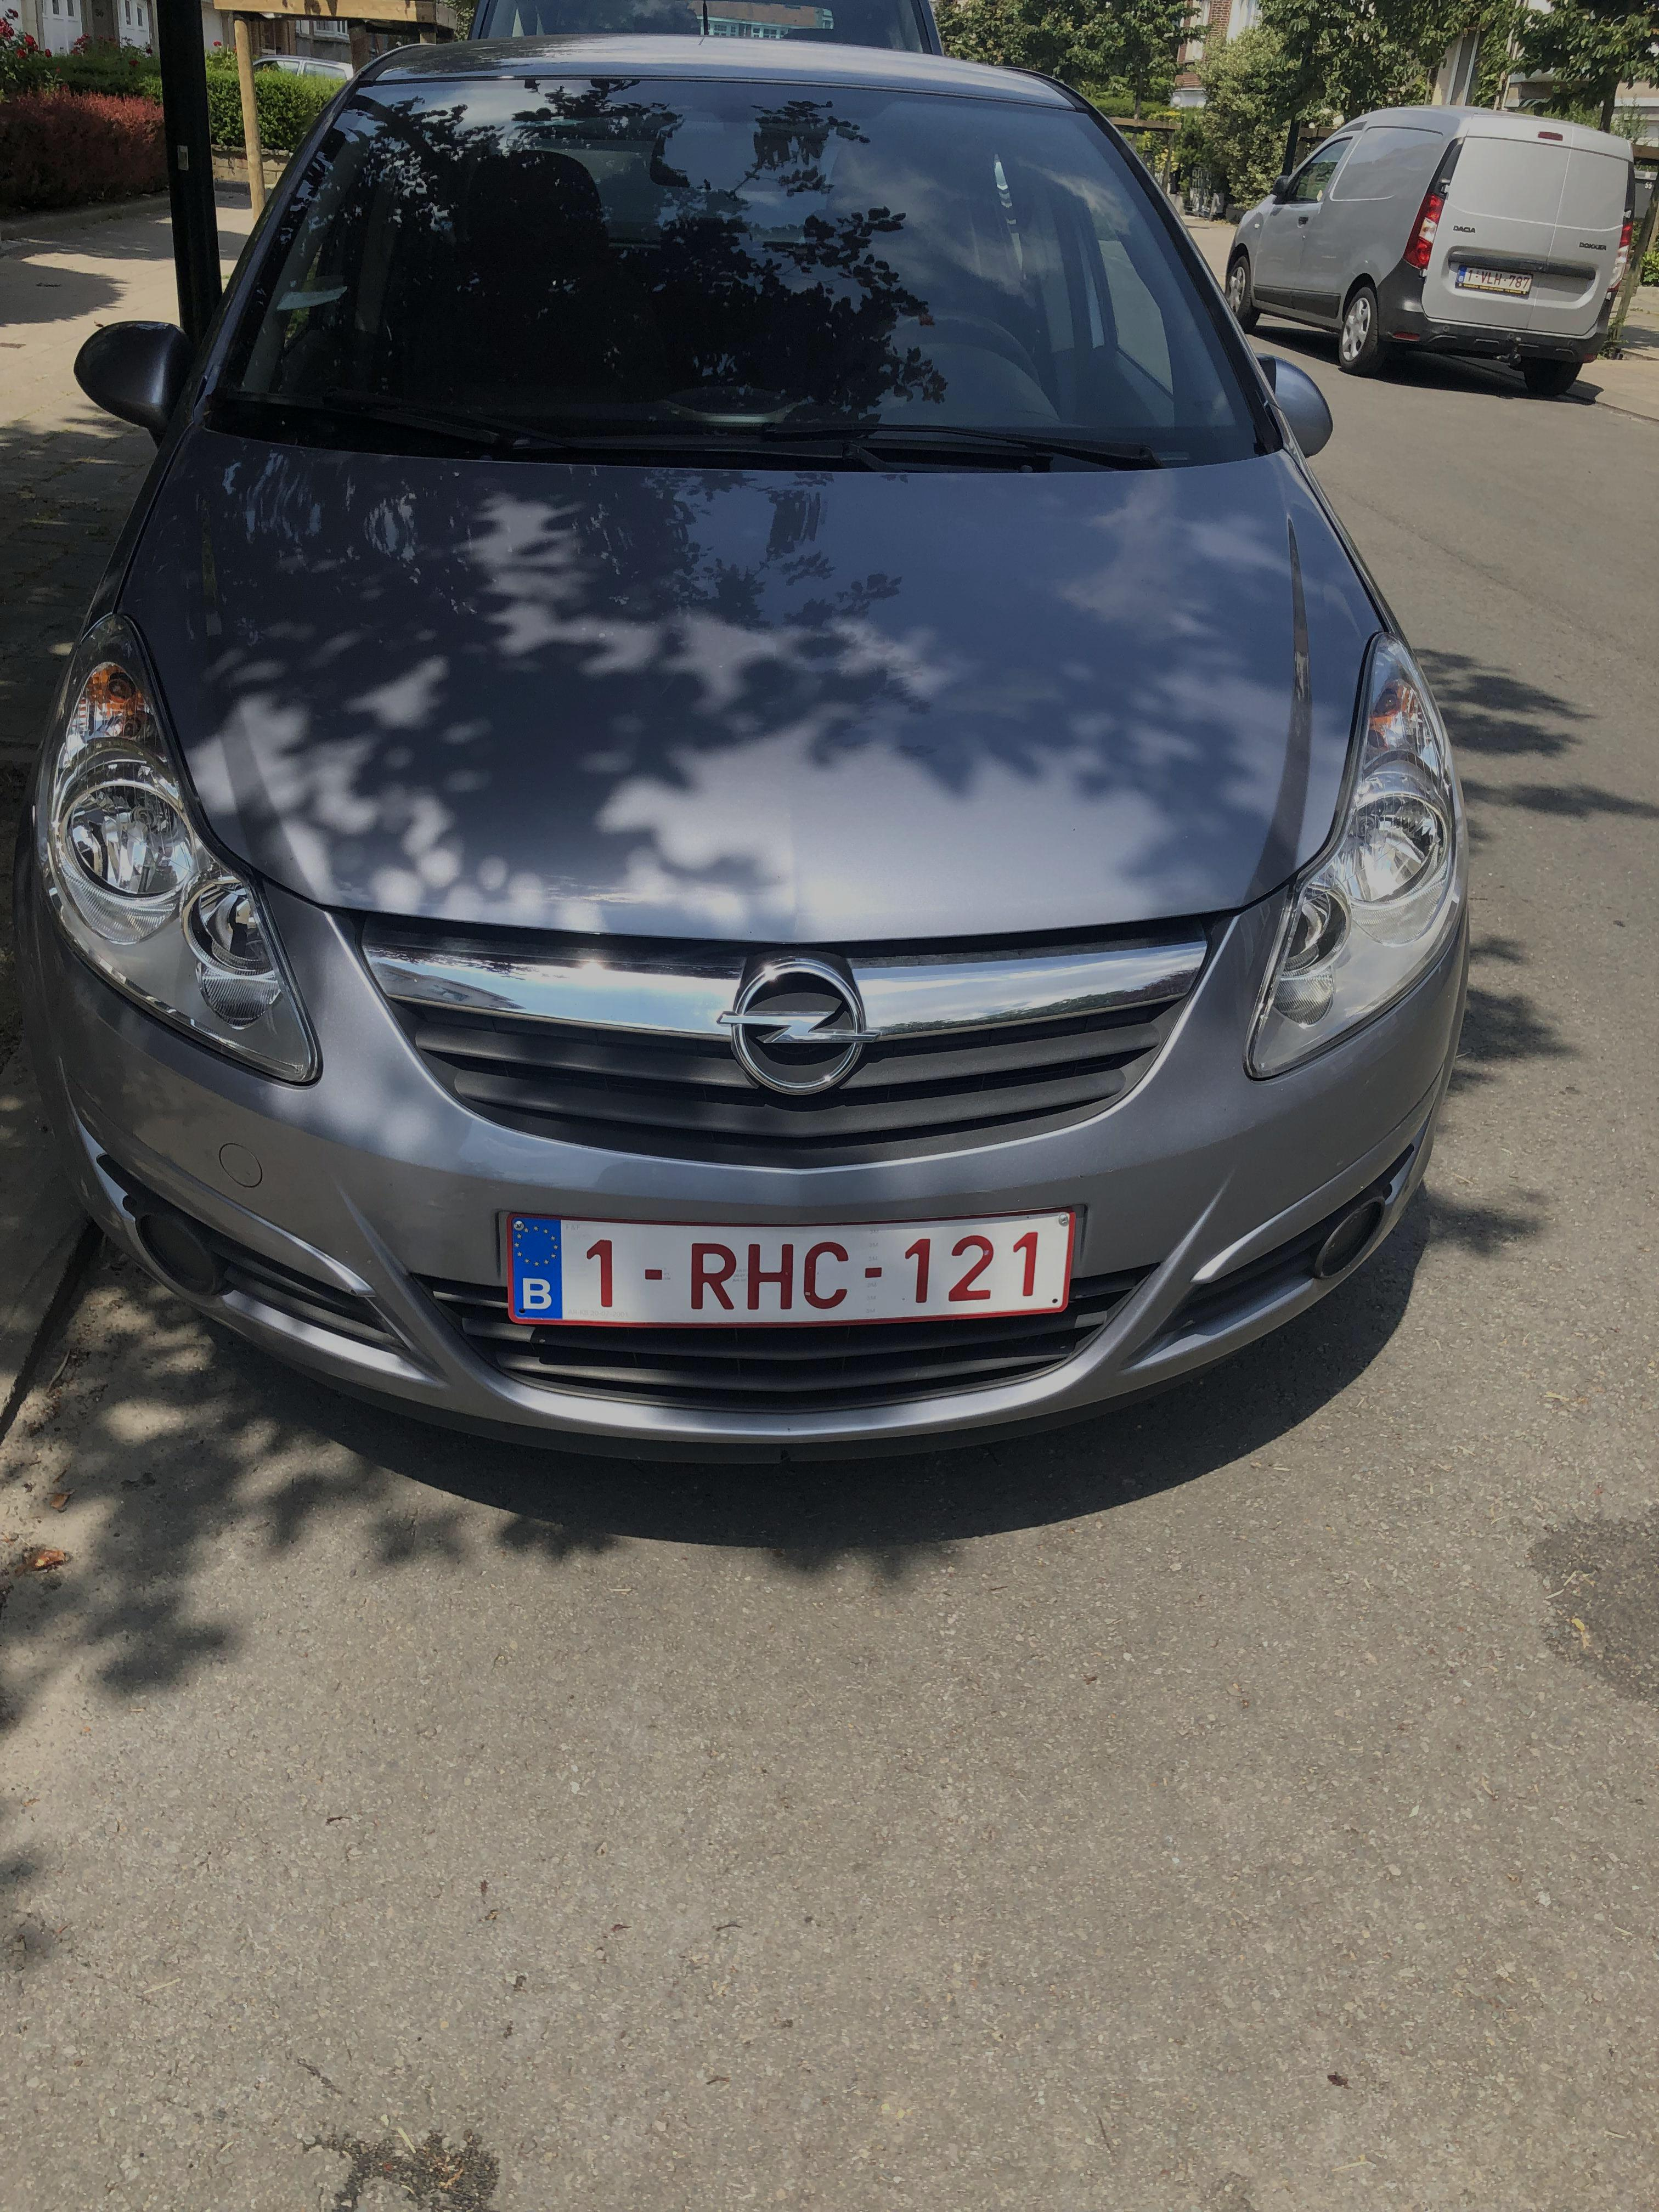plate: (439, 1189, 1132, 1347)
